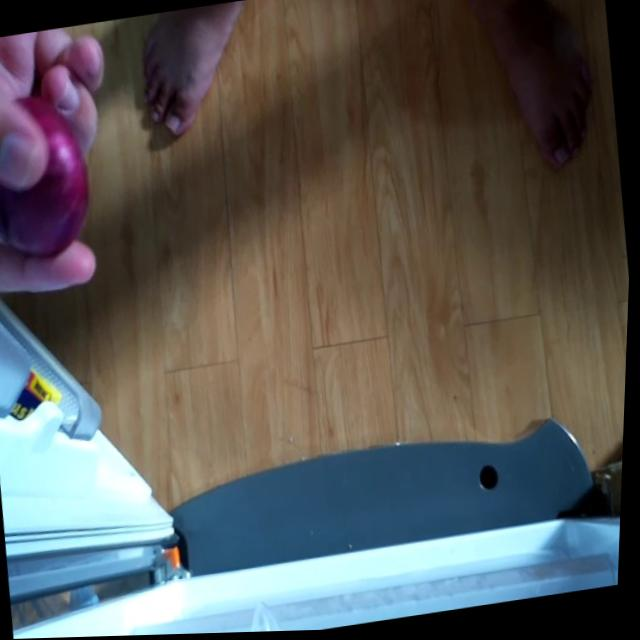onion: (0, 88, 97, 265)
